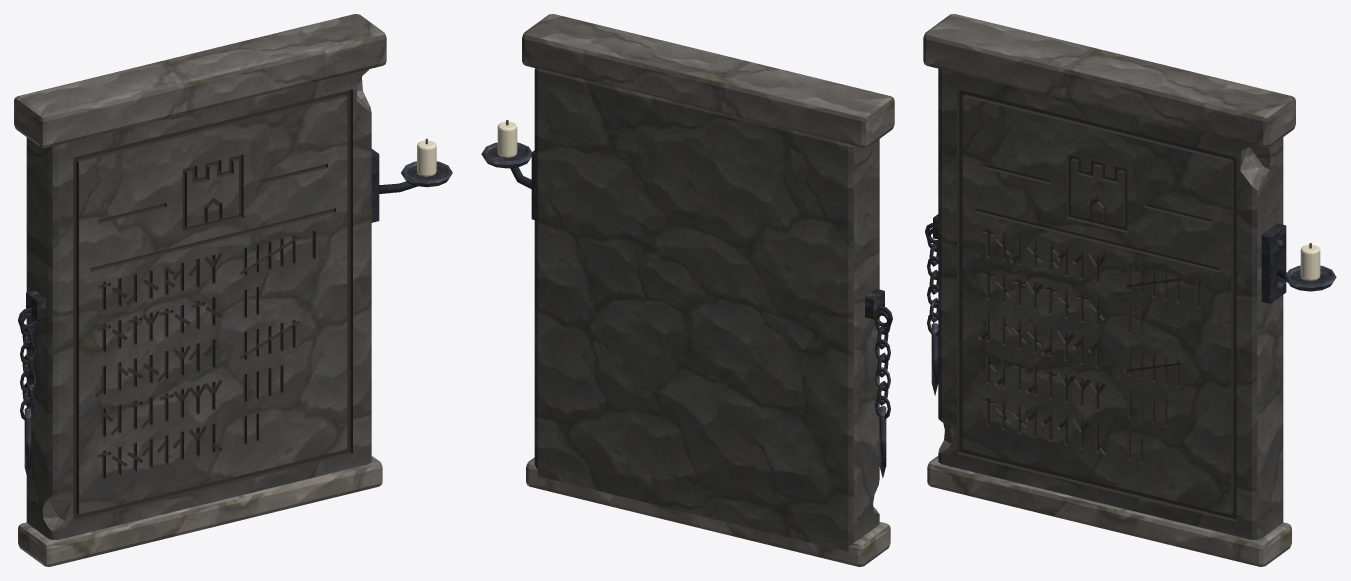
File: rt_watch_roster_slab.glb
3 renders of one model, left to right at view 1: azimuth 30°, elevation 25°; view 2: azimuth 150°, elevation 25°; view 3: azimuth 330°, elevation 25°, orthographic.
Visible parts, largest first — view 1: model; view 2: model; view 3: model.
Boxes of the visible parts, left/top/right/bottom form: model: left=14, top=14, right=452, bottom=566; model: left=481, top=14, right=894, bottom=566; model: left=923, top=14, right=1336, bottom=566.
Size of the model in its own units: 1.04 by 1.07 by 0.176.
8 materials, 5 textured.
